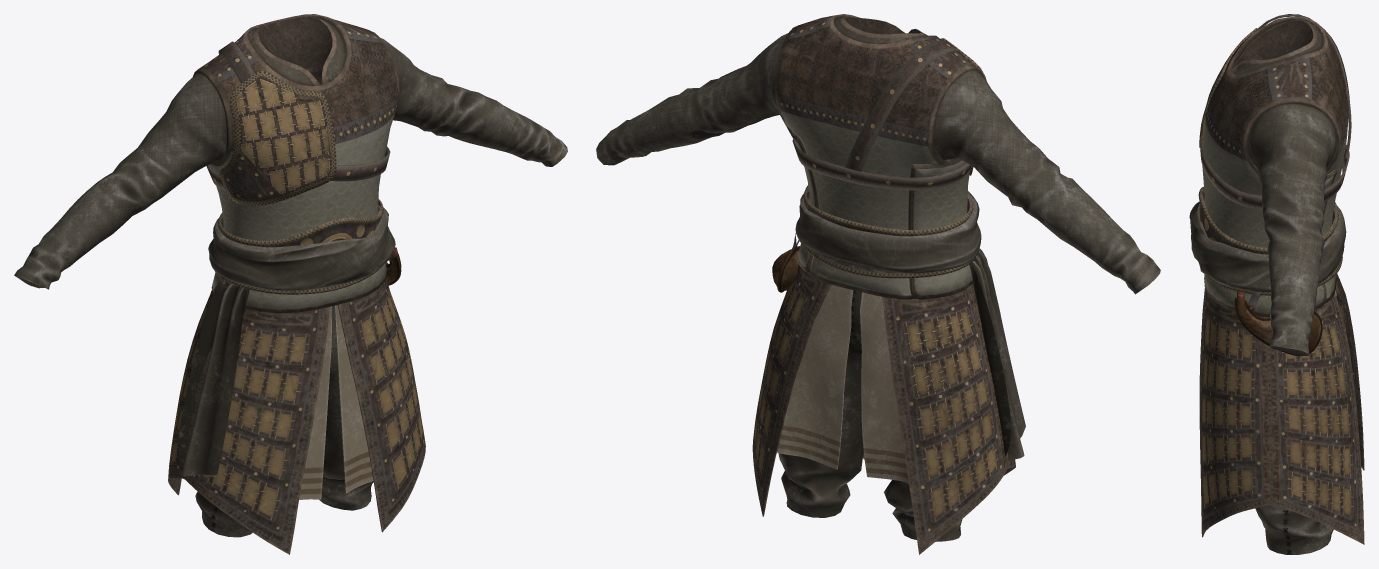
Rendered from dunland_wulf_scalemail_elite_f.fbx.
3 views of the same model, side by side, from view 1: azimuth 30°, elevation 25°; view 2: azimuth 150°, elevation 25°; view 3: azimuth 270°, elevation 25° (orthographic). The views are drawn at different scales.
Parts seen in each view (by area): view 1: dunland_wulf_scalemail_elite_f.base, dunland_wulf_scalemail_elite_f.leatherskirt, dunland_wulf_scalemail_elite_f.belt, dunland_wulf_scalemail_elite_f.prop, dunland_wulf_scalemail_elite_f.skirt; view 2: dunland_wulf_scalemail_elite_f.base, dunland_wulf_scalemail_elite_f.leatherskirt, dunland_wulf_scalemail_elite_f.skirt, dunland_wulf_scalemail_elite_f.prop, dunland_wulf_scalemail_elite_f.belt; view 3: dunland_wulf_scalemail_elite_f.base, dunland_wulf_scalemail_elite_f.leatherskirt, dunland_wulf_scalemail_elite_f.belt, dunland_wulf_scalemail_elite_f.prop.
Part boxes in pixels (bbox=[...]): dunland_wulf_scalemail_elite_f.base: bbox=[14, 14, 567, 537]; dunland_wulf_scalemail_elite_f.leatherskirt: bbox=[168, 71, 425, 554]; dunland_wulf_scalemail_elite_f.belt: bbox=[208, 199, 395, 294]; dunland_wulf_scalemail_elite_f.prop: bbox=[178, 41, 401, 476]; dunland_wulf_scalemail_elite_f.skirt: bbox=[183, 305, 373, 499]; dunland_wulf_scalemail_elite_f.base: bbox=[596, 14, 1160, 541]; dunland_wulf_scalemail_elite_f.leatherskirt: bbox=[752, 38, 1015, 554]; dunland_wulf_scalemail_elite_f.skirt: bbox=[777, 284, 908, 483]; dunland_wulf_scalemail_elite_f.prop: bbox=[772, 40, 1025, 459]; dunland_wulf_scalemail_elite_f.belt: bbox=[795, 185, 981, 278]; dunland_wulf_scalemail_elite_f.base: bbox=[1202, 16, 1349, 554]; dunland_wulf_scalemail_elite_f.leatherskirt: bbox=[1199, 28, 1364, 544]; dunland_wulf_scalemail_elite_f.belt: bbox=[1189, 186, 1346, 295]; dunland_wulf_scalemail_elite_f.prop: bbox=[1200, 14, 1351, 356].
Bounding box in the file's own units: 1.38 × 0.3855 × 1.18.
Materials: 4 (4 with a texture image).
